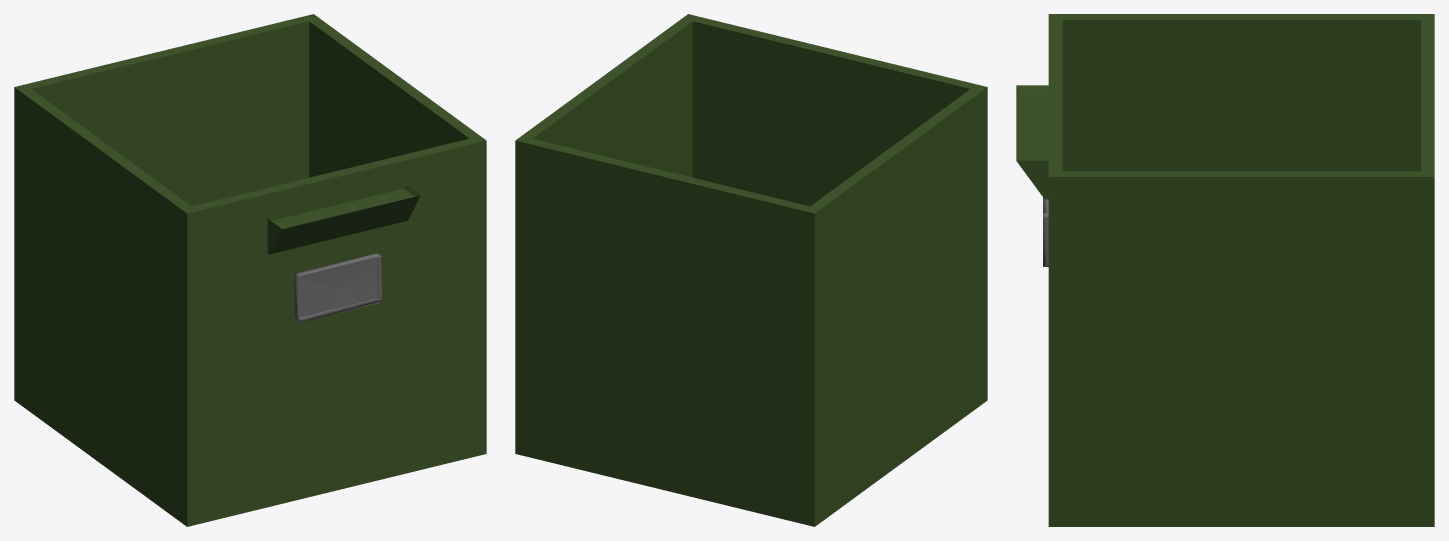
The model's file is meuble_tiroir_ouvert.glb.
3 views of the same model, side by side, from view 1: azimuth 30°, elevation 25°; view 2: azimuth 150°, elevation 25°; view 3: azimuth 270°, elevation 25° (orthographic). The views are drawn at different scales.
Parts seen in each view (by area): view 1: meuble_tiroir_ouvert; view 2: meuble_tiroir_ouvert; view 3: meuble_tiroir_ouvert.
Part boxes in pixels (x1,y1,x2,y2): meuble_tiroir_ouvert: (14,14,486,526); meuble_tiroir_ouvert: (515,14,987,526); meuble_tiroir_ouvert: (1016,14,1434,526).
Size of the model in its own units: 0.4814 by 0.4814 by 0.522.
